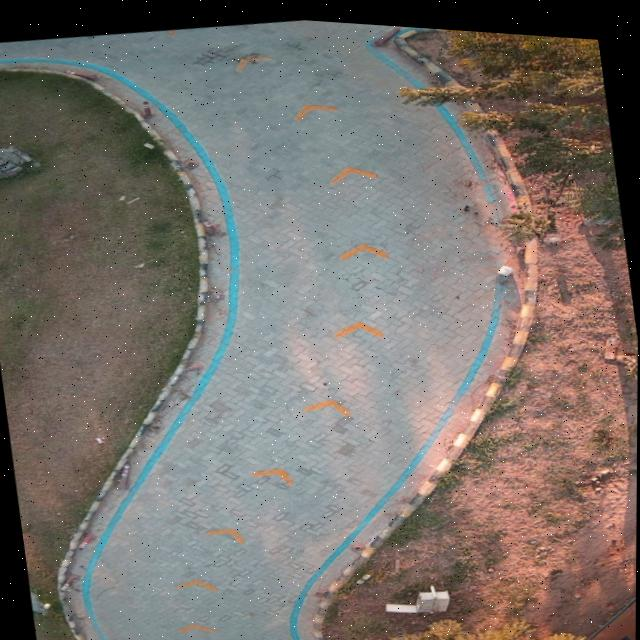No Car: (0, 16, 638, 640)
